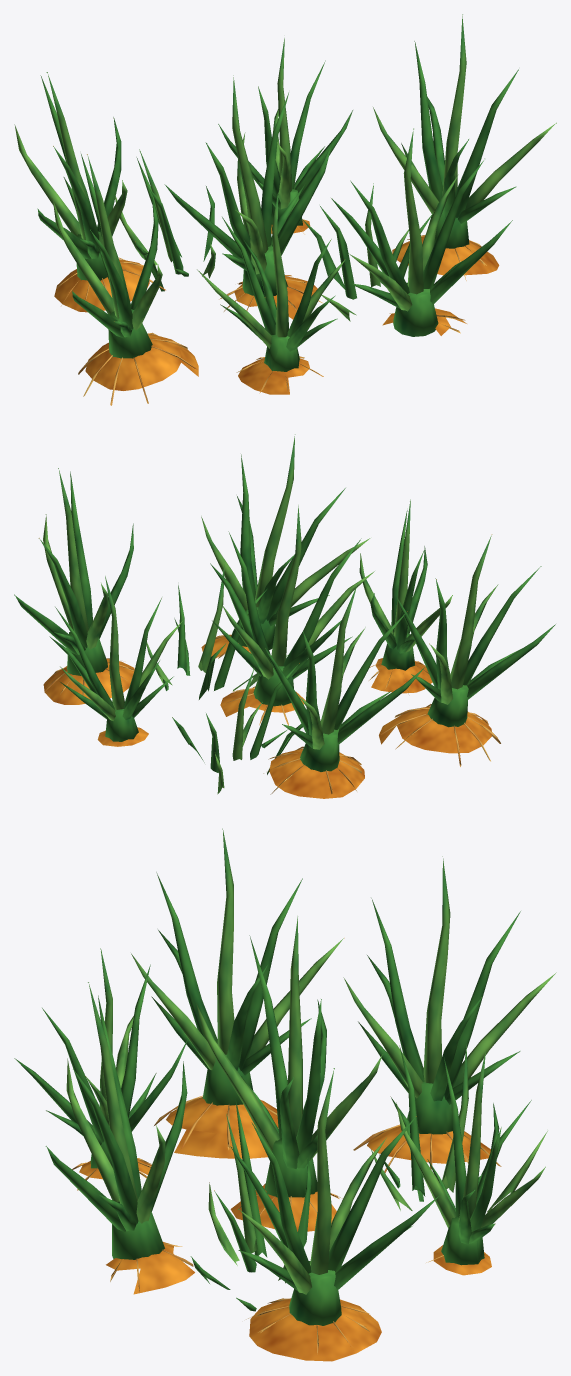
The model's file is onion_stage_1.glb.
The picture shows the model from 3 angles, top to bottom: view 1: azimuth 30°, elevation 25°; view 2: azimuth 150°, elevation 25°; view 3: azimuth 270°, elevation 25°; orthographic projection. The views are drawn at different scales.
Visible parts, largest first — view 1: onion_stage_1; view 2: onion_stage_1; view 3: onion_stage_1.
Part boxes in pixels (x1,y1,x2,y2): onion_stage_1: (14,14,556,405); onion_stage_1: (14,434,555,798); onion_stage_1: (14,828,556,1361).
Size of the model in its own units: 1.02 by 0.4808 by 0.7773.
Materials: 1 (1 with a texture image).
